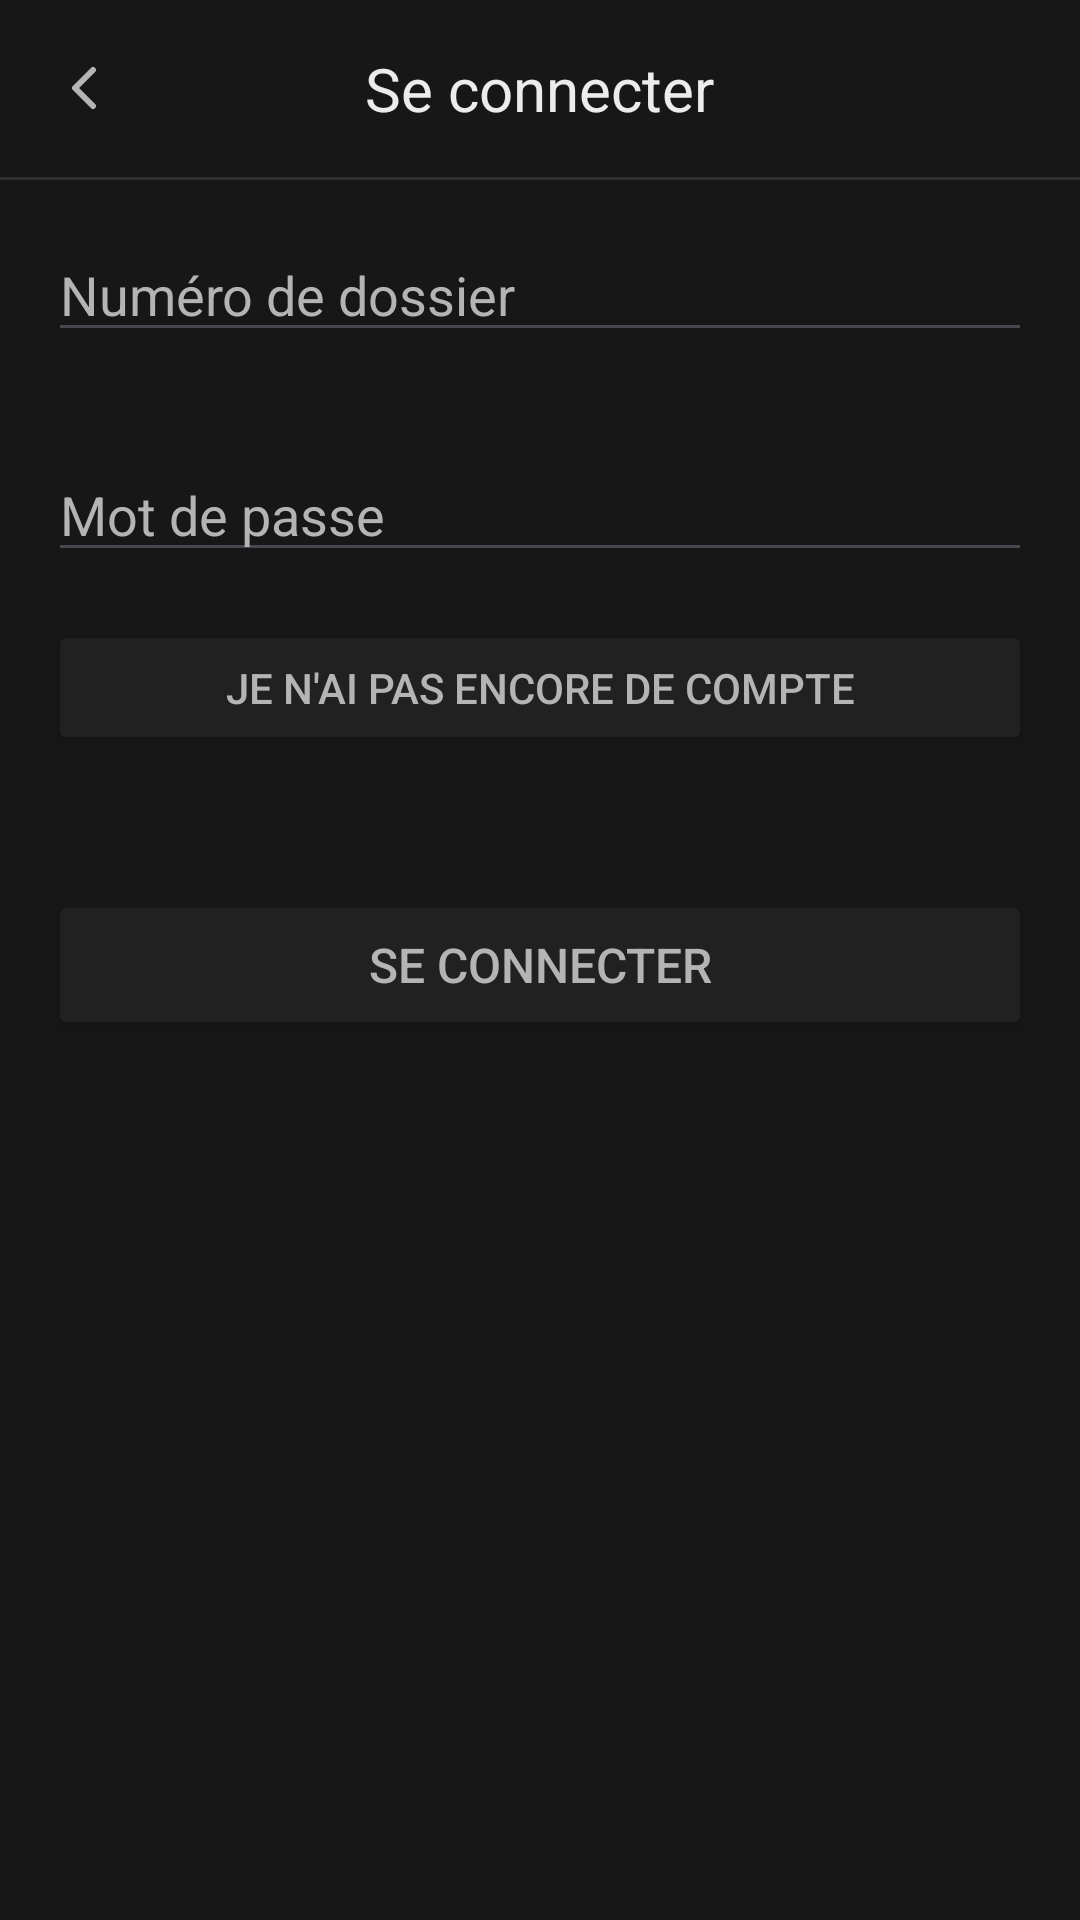

Point at icon controls on the screen. Image size 1080 x 1920, points as point (x, y).
Retour: point (84, 88)
